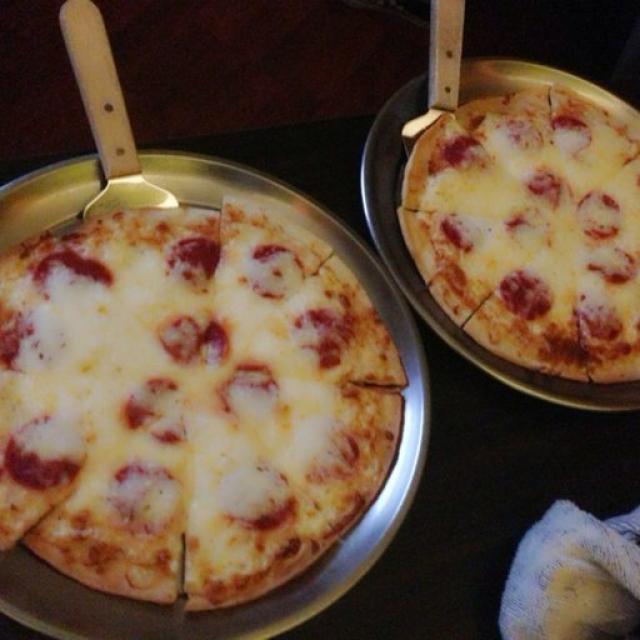Pepperoni: (10, 415, 80, 483), (228, 460, 298, 523), (110, 467, 176, 526), (122, 379, 181, 442), (27, 254, 106, 299), (248, 240, 300, 300), (294, 310, 345, 371), (172, 318, 231, 366), (168, 231, 217, 288), (222, 368, 276, 417), (0, 311, 32, 368), (594, 243, 634, 285), (504, 275, 547, 314), (582, 304, 620, 348), (578, 192, 618, 232), (445, 216, 481, 250), (552, 116, 587, 150), (527, 174, 559, 205), (449, 136, 481, 164), (502, 212, 526, 230)
Pizza: (0, 209, 406, 609), (400, 90, 640, 385)
